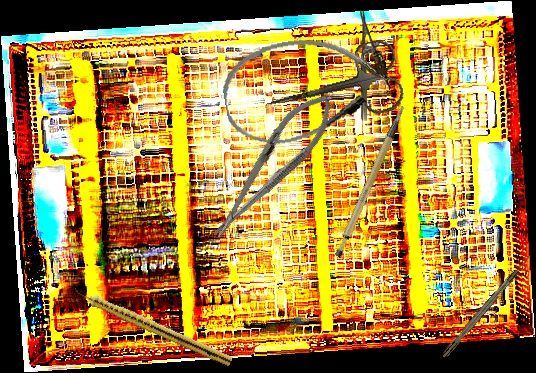Cannula: (216, 25, 397, 153)
Handpiece: (71, 283, 235, 368)
Hook Surgical: (440, 252, 535, 359)
Iris Scissors: (257, 37, 407, 138)
Needle Holder: (198, 81, 347, 250), (360, 10, 382, 121)
Scalpel Handle: (315, 105, 429, 260)
